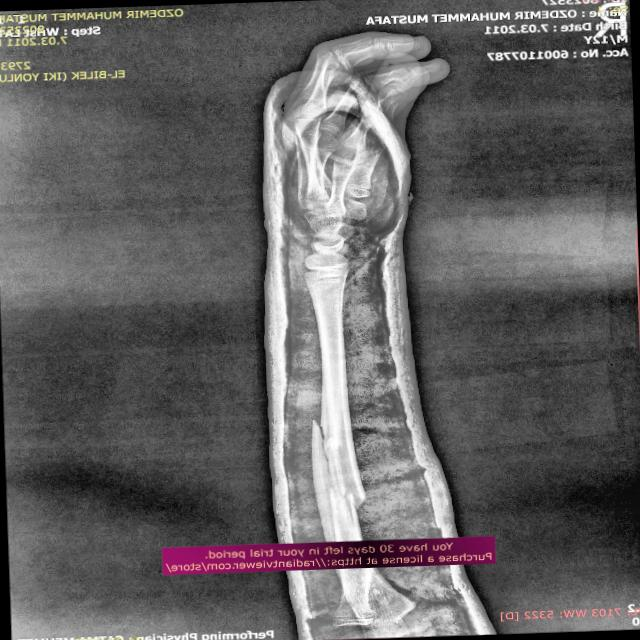Fracture: (307, 414, 369, 514)
